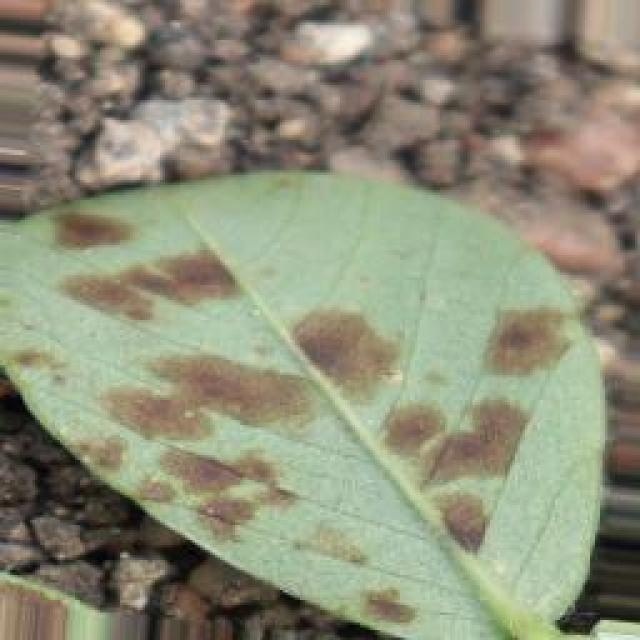Whitefly: (10, 190, 603, 600)
